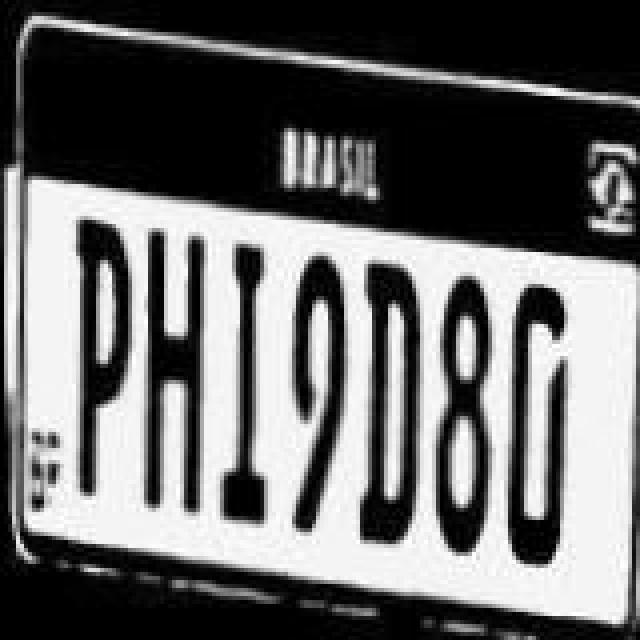8: (424, 270, 500, 554)
9: (276, 258, 360, 538)
D: (346, 258, 426, 542), (494, 288, 566, 576)
H: (130, 224, 214, 516)
I: (214, 232, 290, 520)
P: (64, 214, 136, 506)
